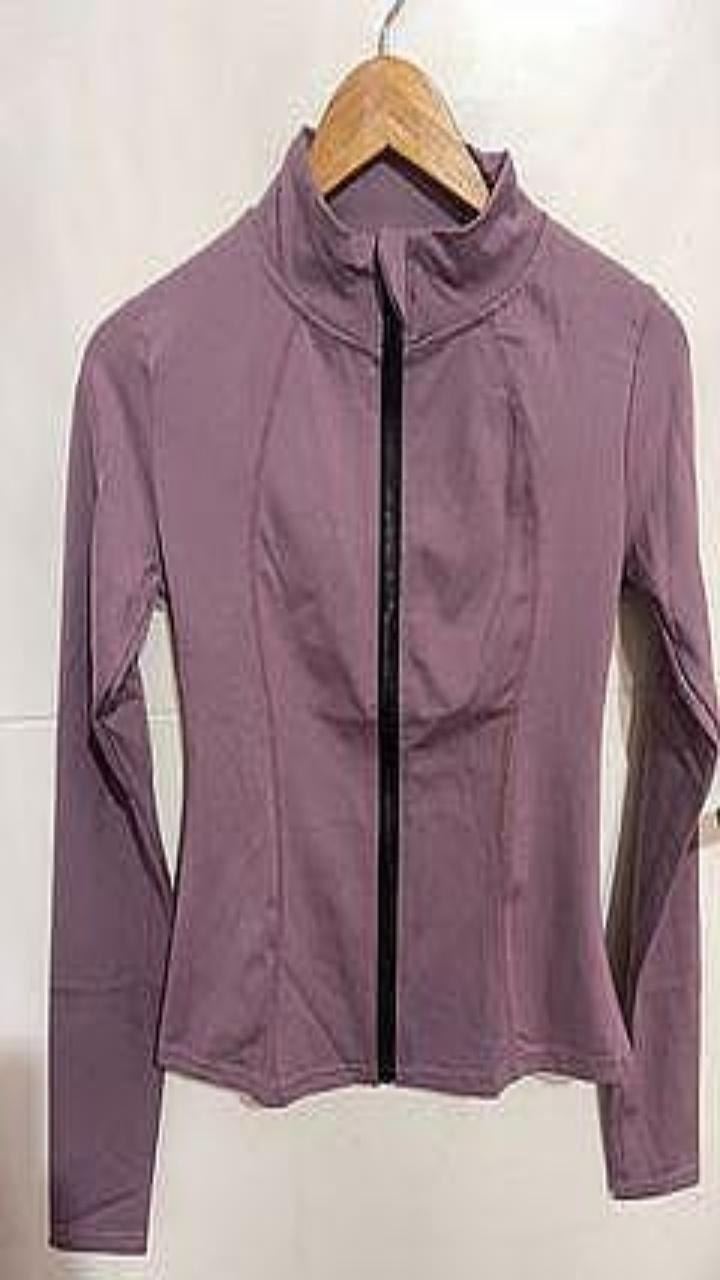Sports_Jacket: (49, 124, 719, 1252)
